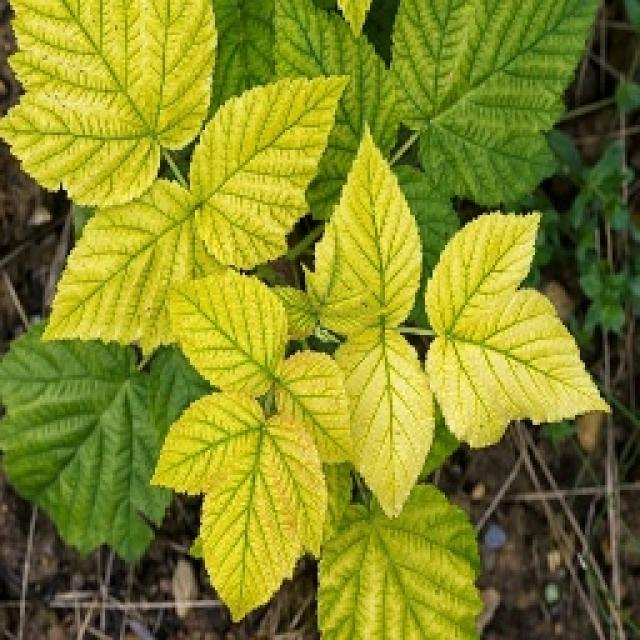Chlorosis: (5, 0, 550, 640)
